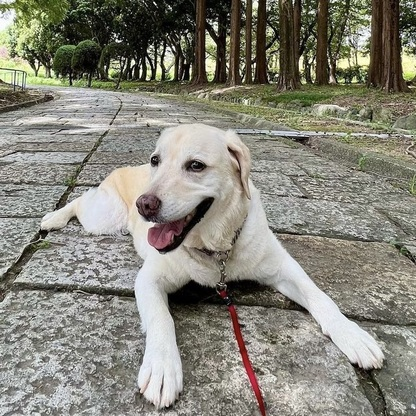labrado: (35, 119, 392, 416)
